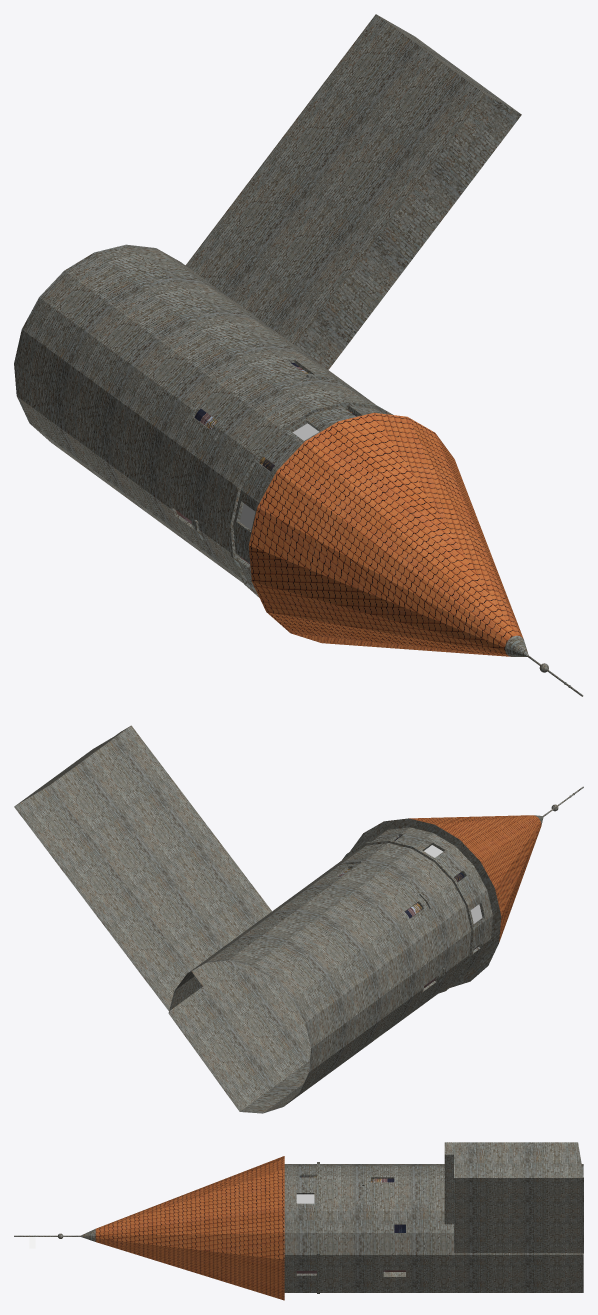
The model's file is Laboratooriumi_33.obj.
3 renders of one model, top to bottom at view 1: azimuth 30°, elevation 25°; view 2: azimuth 150°, elevation 25°; view 3: azimuth 270°, elevation 25°, orthographic. The views are drawn at different scales.
Visible parts, largest first — view 1: Laboratooriumi_33; view 2: Laboratooriumi_33; view 3: Laboratooriumi_33.
Part boxes in pixels (x1,y1,x2,y2): Laboratooriumi_33: (14, 14, 583, 696); Laboratooriumi_33: (14, 725, 583, 1113); Laboratooriumi_33: (14, 1142, 583, 1300).
Size of the model in its own units: 20.46 by 18.27 by 40.24.
